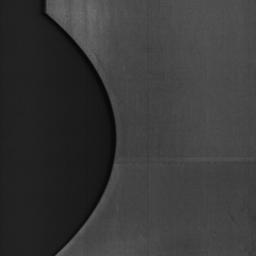Crescent gap: (47, 14, 117, 252)
